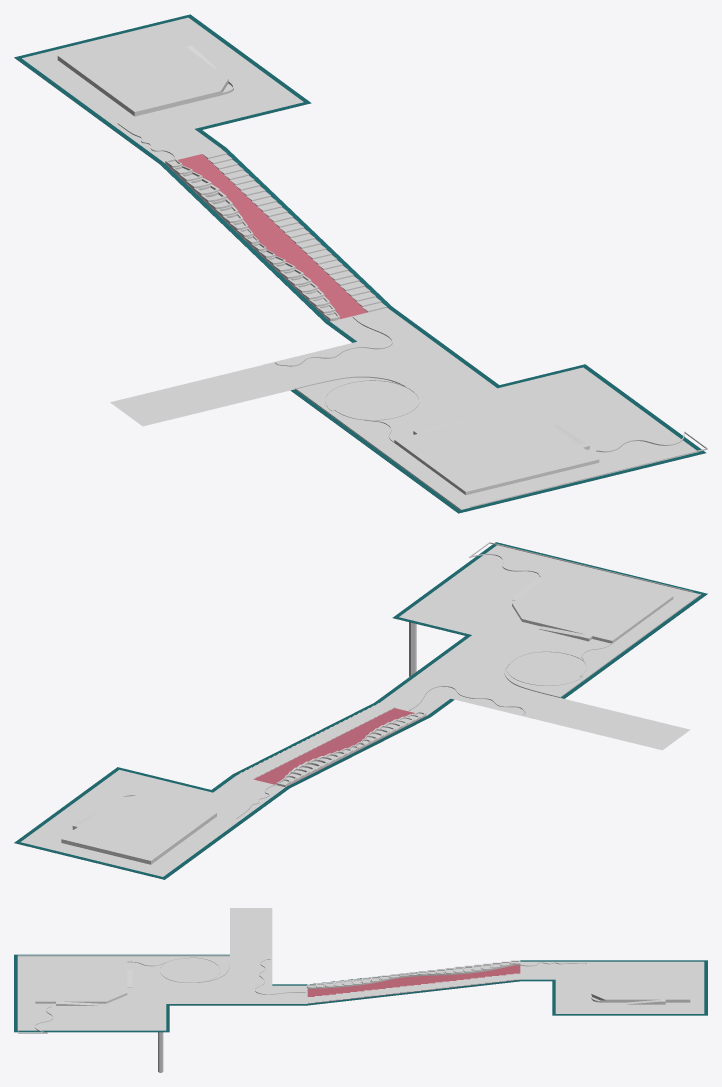
File: PlataformaCompletaJoao 1.fbx
3 renders of one model, top to bottom at view 1: azimuth 30°, elevation 25°; view 2: azimuth 150°, elevation 25°; view 3: azimuth 270°, elevation 25°, orthographic. The views are drawn at different scales.
Visible parts, largest first — view 1: RampaEntrada.001, FimRampaEscada.001, Plane.005, Plane.007, Plane.006, PlataformaInferior.013, RampaEscada.001, EscadaRampaPrincipal, Cube.004, Plane, Plane.004; view 2: RampaEntrada.001, FimRampaEscada.001, Plane.005, Plane.007, Plane.006, PlataformaInferior.013, RampaEscada.001, EscadaRampaPrincipal, Cube.004, Plane, Plane.004; view 3: RampaEntrada.001, FimRampaEscada.001, Plane.005, Plane.007, Plane.006, PlataformaInferior.013, RampaEscada.001, EscadaRampaPrincipal, Cube.004, Plane, Plane.001.
Boxes of the visible parts, <box> form: RampaEntrada.001: <box>110,307,697,509</box>; FimRampaEscada.001: <box>22,17,303,162</box>; Plane.005: <box>394,414,599,494</box>; Plane.007: <box>298,377,696,509</box>; Plane.006: <box>57,30,231,116</box>; PlataformaInferior.013: <box>14,14,705,513</box>; RampaEscada.001: <box>165,149,382,320</box>; EscadaRampaPrincipal: <box>203,149,386,312</box>; Cube.004: <box>165,158,339,321</box>; Plane: <box>262,319,378,367</box>; Plane.004: <box>470,431,707,507</box>; RampaEntrada.001: <box>379,545,698,750</box>; FimRampaEscada.001: <box>20,770,284,876</box>; Plane.005: <box>512,568,673,643</box>; Plane.007: <box>479,545,699,696</box>; Plane.006: <box>61,795,216,864</box>; PlataformaInferior.013: <box>14,542,707,879</box>; RampaEscada.001: <box>253,708,426,786</box>; EscadaRampaPrincipal: <box>237,703,394,779</box>; Cube.004: <box>276,711,426,787</box>; Plane: <box>422,690,534,718</box>; Plane.004: <box>469,542,692,592</box>; RampaEntrada.001: <box>17,908,307,1030</box>; FimRampaEscada.001: <box>520,961,704,1013</box>; Plane.005: <box>35,959,132,1005</box>; Plane.007: <box>18,956,229,1030</box>; Plane.006: <box>591,966,690,1004</box>; PlataformaInferior.013: <box>14,954,707,1032</box>; RampaEscada.001: <box>307,965,520,1003</box>; EscadaRampaPrincipal: <box>307,973,520,1003</box>; Cube.004: <box>307,960,520,988</box>; Plane: <box>257,955,307,990</box>; Plane.001: <box>17,955,229,982</box>.
Size of the model in its own units: 8800 by 2237 by 19612.
